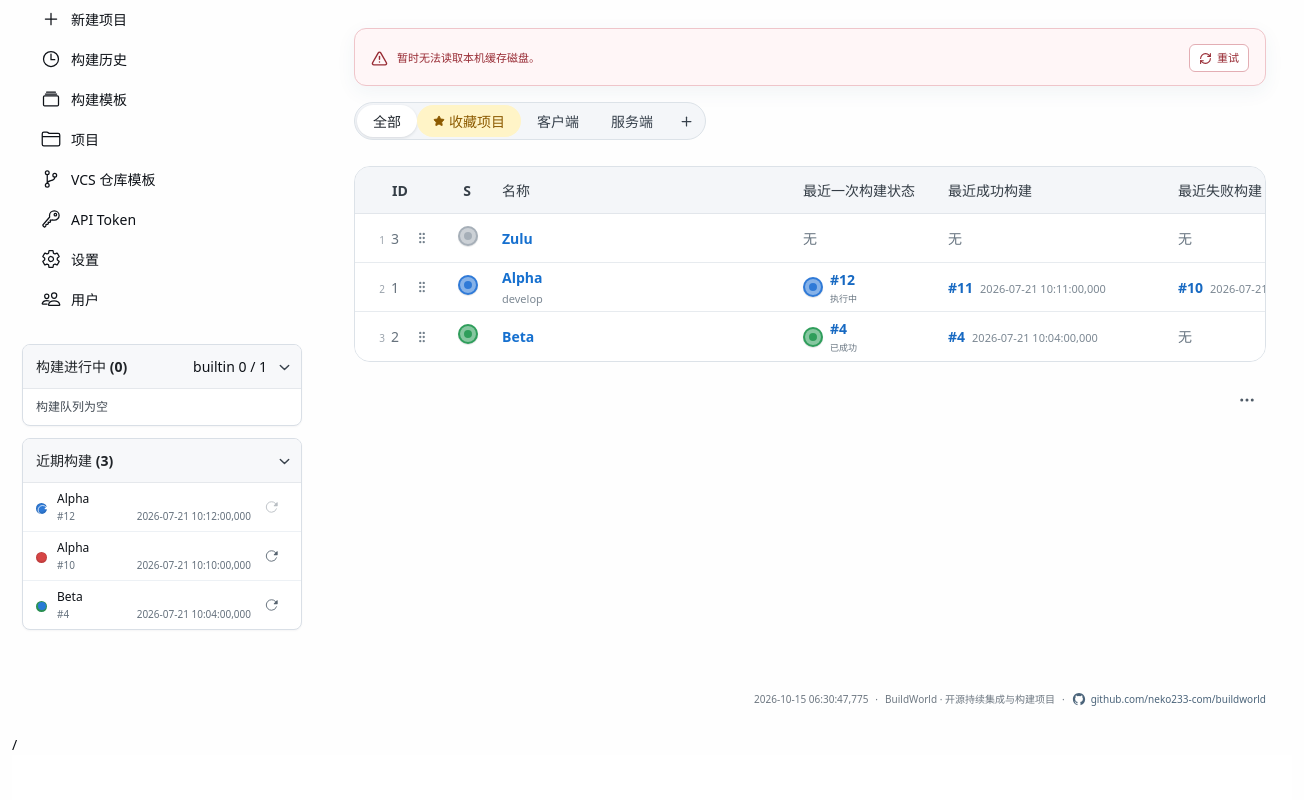
Test case: Dashboard Jenkins job view › keeps project data available when disk monitoring fails and offers retry
Check: the table with class "jenkins-job-table" is shown, box 355,167 -> 1266,361
Check: the message with class "error" shows "暂时无法读取本机缓存磁盘", box 397,50 -> 540,65
Click the button "重试".
click(1219, 58)  # box 1189,44 -> 1249,72
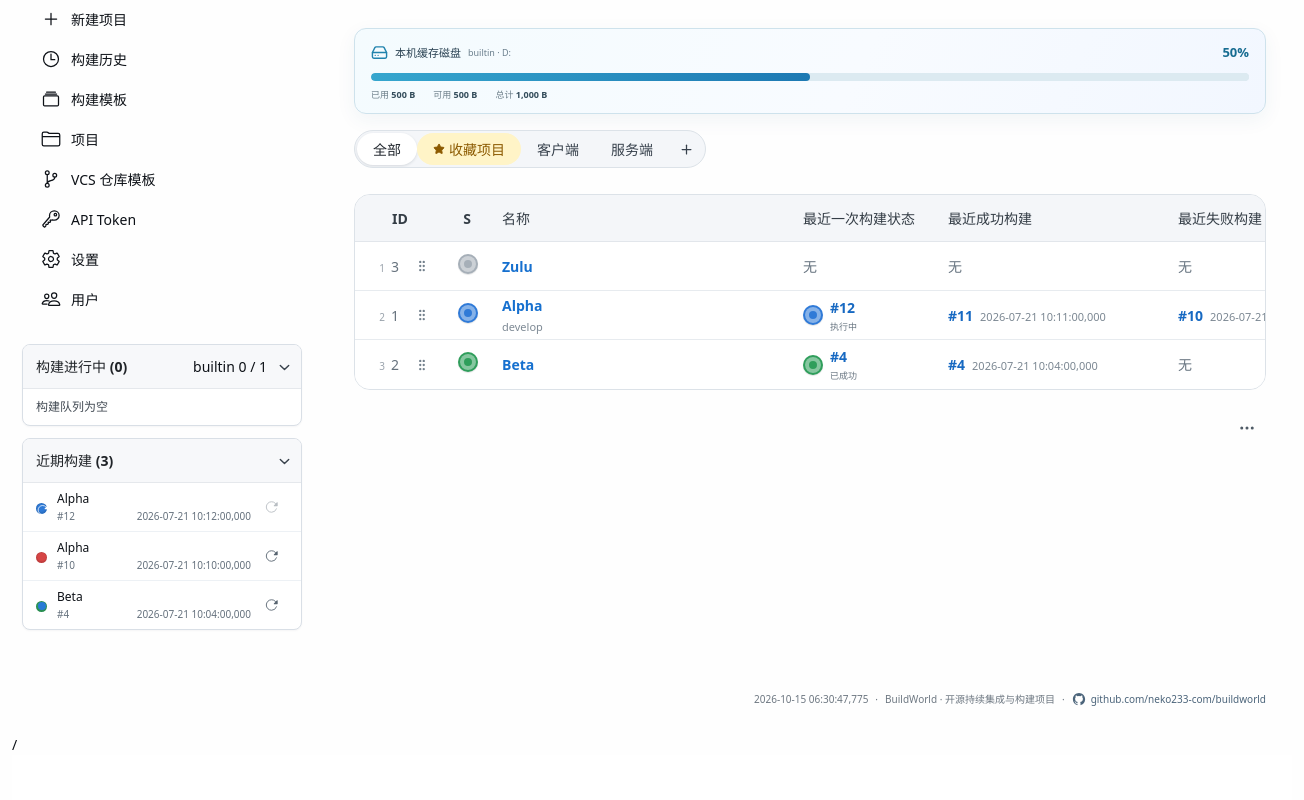
Check: the progress indicator named "已用 50%" is shown, box 371,72 -> 1249,80
